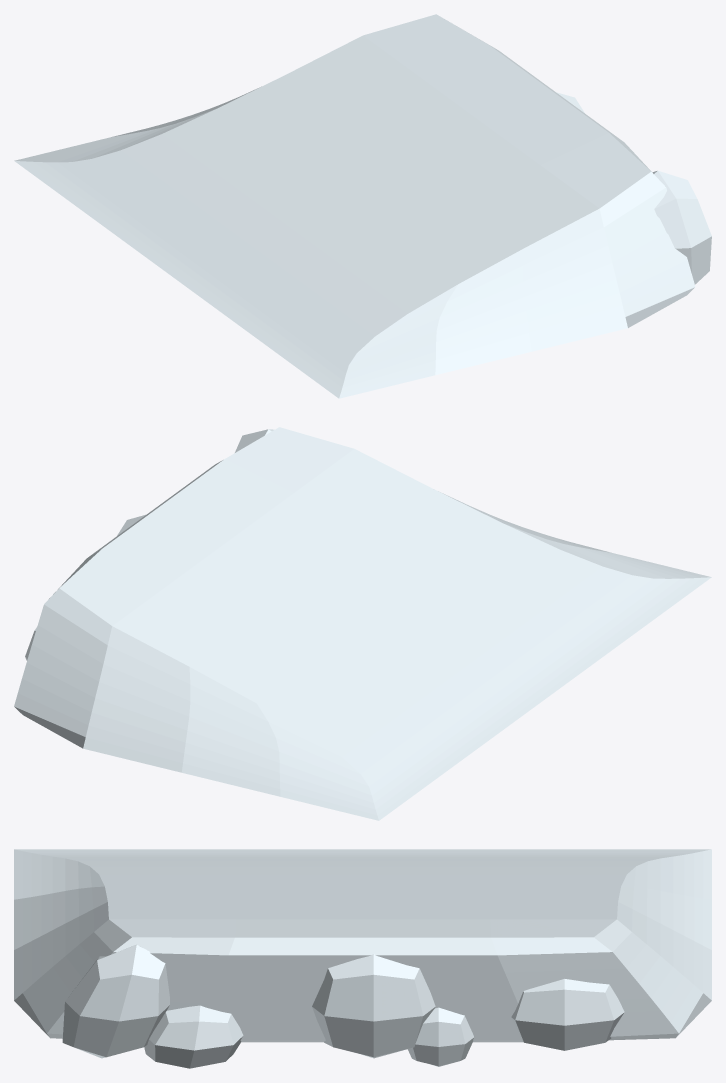
The model's file is OneWay.fbx.
3 renders of one model, top to bottom at view 1: azimuth 30°, elevation 25°; view 2: azimuth 150°, elevation 25°; view 3: azimuth 270°, elevation 25°, orthographic. The views are drawn at different scales.
Parts seen in each view (by area): view 1: Plane.004; view 2: Plane.004; view 3: Plane.004.
Part boxes in pixels (x1,y1,x2,y2): Plane.004: [14, 14, 711, 398]; Plane.004: [14, 427, 711, 820]; Plane.004: [14, 849, 711, 1068].
Size of the model in its own units: 255 by 67.77 by 346.
